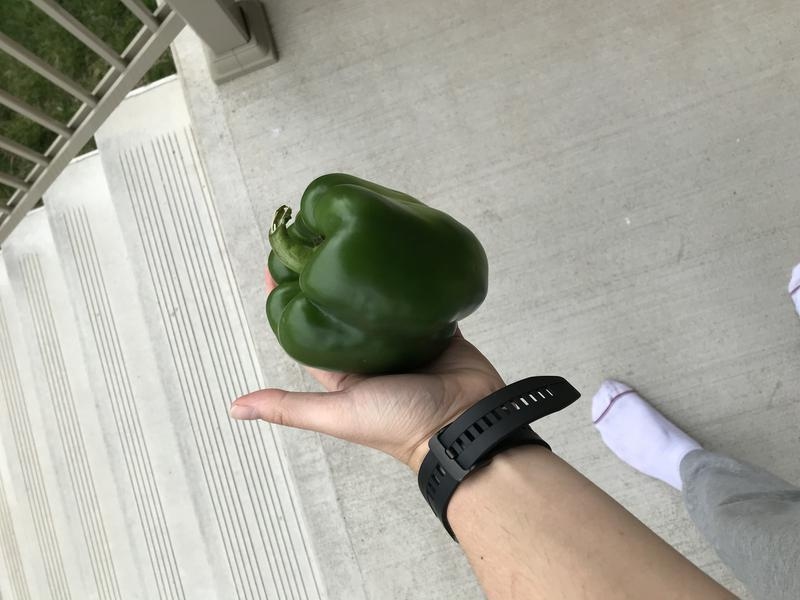green_pepper: (261, 158, 499, 381)
